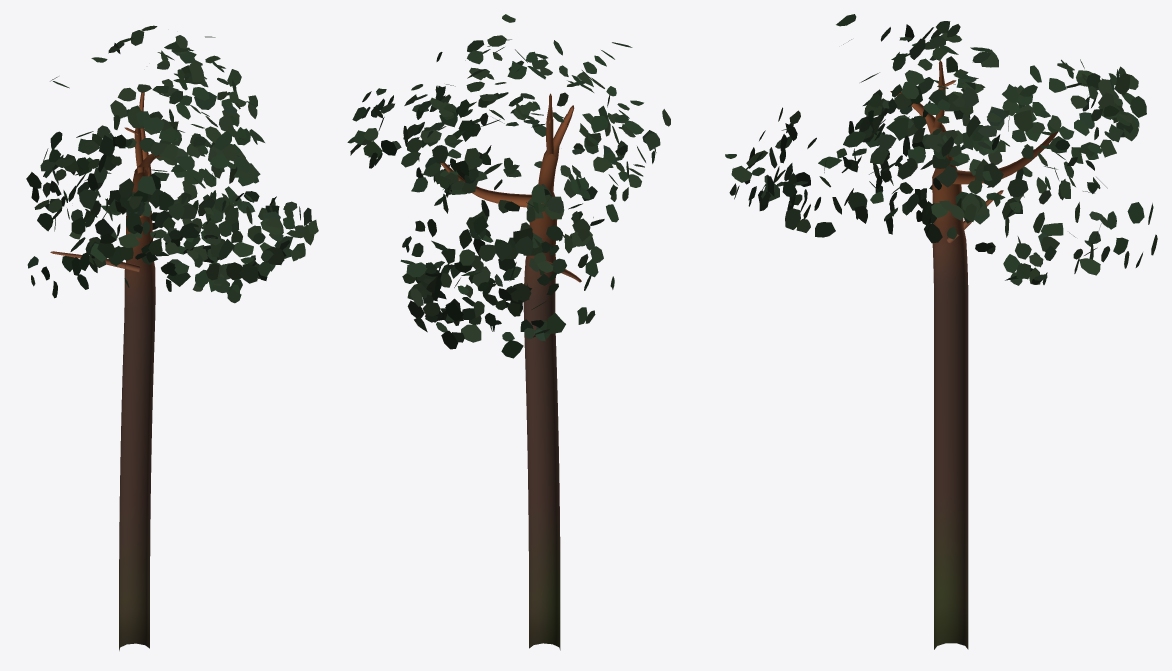
File: SM_TreeFar_pine_2.glb
The picture shows the model from 3 angles, left to right: view 1: azimuth 30°, elevation 25°; view 2: azimuth 150°, elevation 25°; view 3: azimuth 270°, elevation 25°; orthographic projection. The views are drawn at different scales.
Parts seen in each view (by area): view 1: SM_TreeFar_pine_2; view 2: SM_TreeFar_pine_2; view 3: SM_TreeFar_pine_2.
Boxes of the visible parts, left/top/right/bottom form: SM_TreeFar_pine_2: left=26, top=25, right=318, bottom=650; SM_TreeFar_pine_2: left=347, top=14, right=670, bottom=650; SM_TreeFar_pine_2: left=725, top=14, right=1157, bottom=649.
Size of the model in its own units: 6.94 by 18.1 by 11.32.
